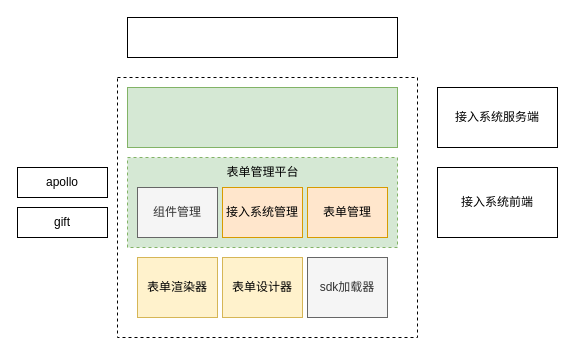
This 575x355 diagram has some shape labels left out. The centre of each missing label's shape, as x and y in pixels:
表单引擎服务端: the point at 262,117
资源引擎: the point at 262,37
